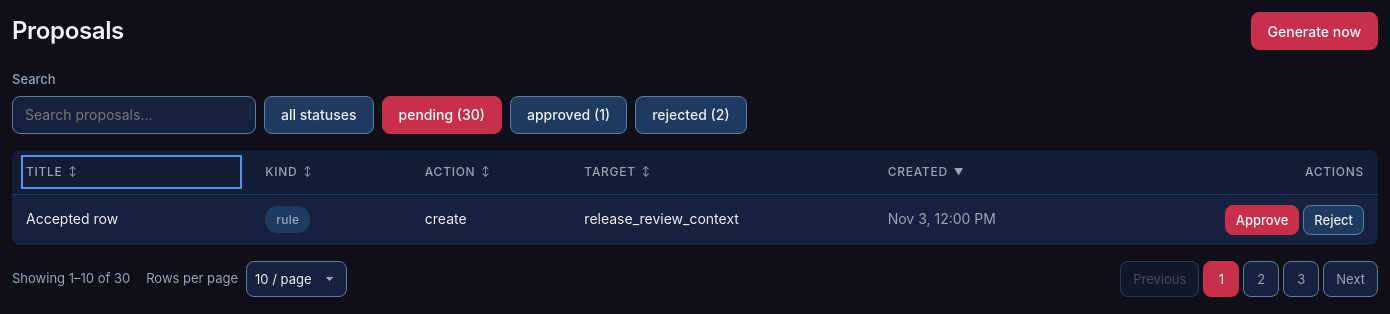
it: keeps accepted rows quiet and focused while disabling stale review actions and rejecting late results
Expected: the text "Accepted row" is shown, [12,194,251,244]
What coordinates should you click on to do the following:
click the button "Title ↕"
I would click on:
 (132, 172)
Its box is [26,160,237,184].
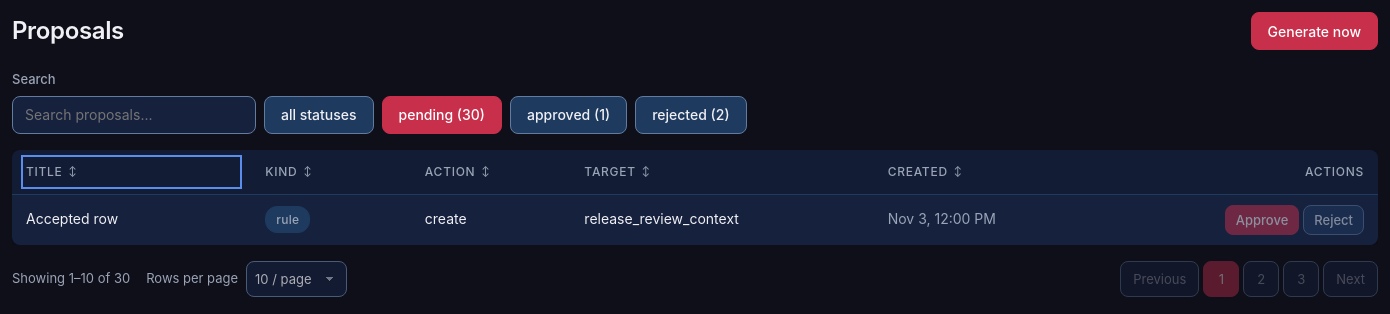
Expected: the text "Accepted row" is shown, [12,194,251,244]
Now the button "Approve" is disabled, box [1225,204,1299,234]
Now the button "Reject" is disabled, box [1303,204,1364,234]
What coordinates should you click on to do the following:
click the button "Title ↕"
I would click on:
 (132, 172)
Its box is [26,160,237,184].
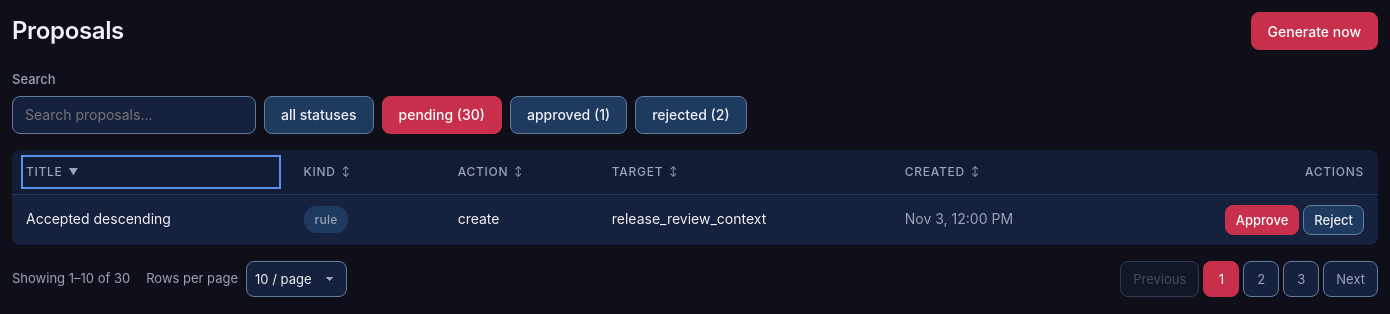
Now the text "Accepted descending" is shown, box [12,194,290,244]
Now the button "Approve" is enabled, box [1225,204,1299,234]
